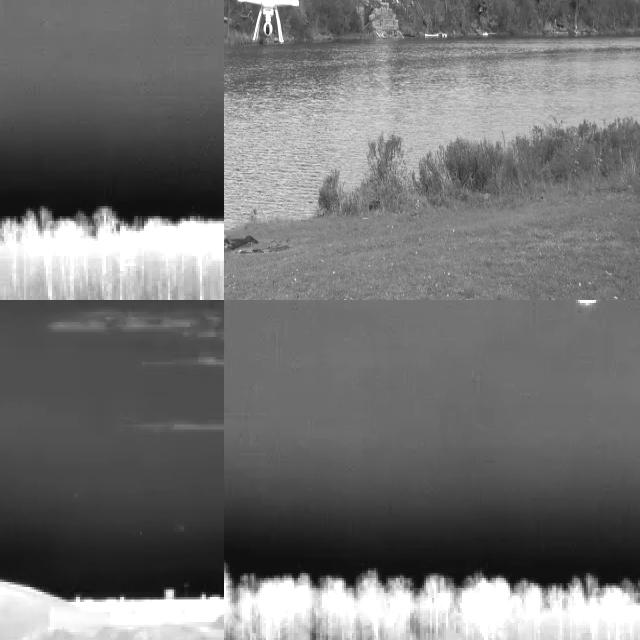1: (565, 300, 599, 314)
drone: (230, 0, 307, 44)
